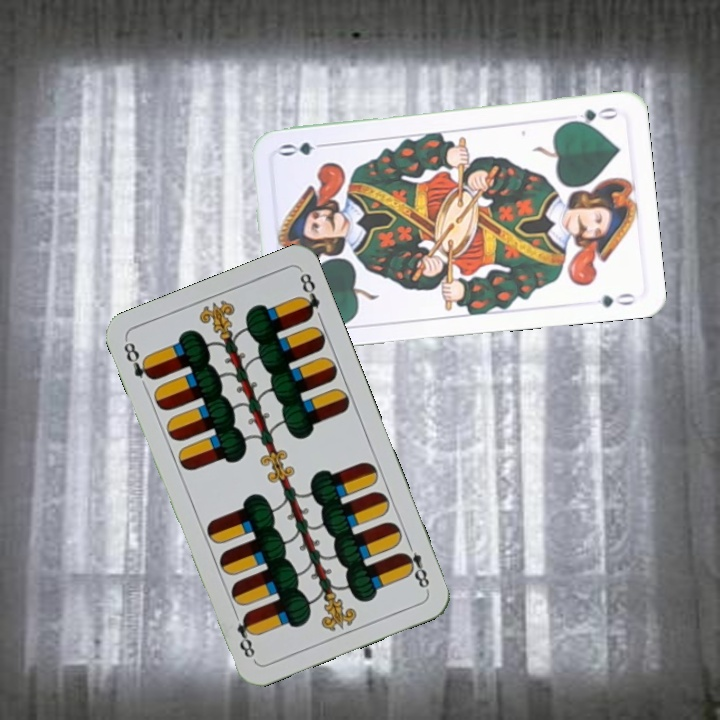E8: (397, 537, 432, 594), (119, 338, 157, 383)
GO: (563, 103, 622, 128)
